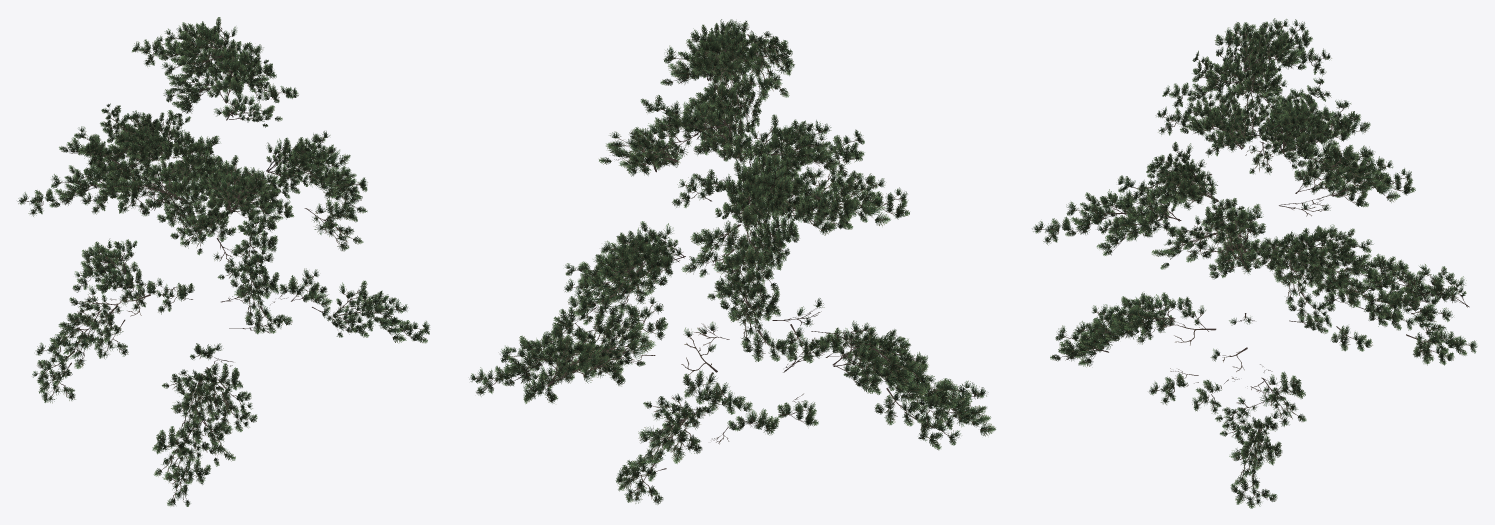
Rendered from tall_tree_01.glb.
3 renders of one model, left to right at view 1: azimuth 30°, elevation 25°; view 2: azimuth 150°, elevation 25°; view 3: azimuth 270°, elevation 25°, orthographic. The views are drawn at different scales.
Visible parts, largest first — view 1: tall_tree_01; view 2: tall_tree_01; view 3: tall_tree_01.
Boxes of the visible parts, left/top/right/bottom form: tall_tree_01: left=17, top=17, right=429, bottom=506; tall_tree_01: left=469, top=19, right=995, bottom=504; tall_tree_01: left=1032, top=18, right=1477, bottom=508.
Bounding box in the file's own units: 4.91 × 4.5 × 4.55.
Materials: 1 (1 with a texture image).
